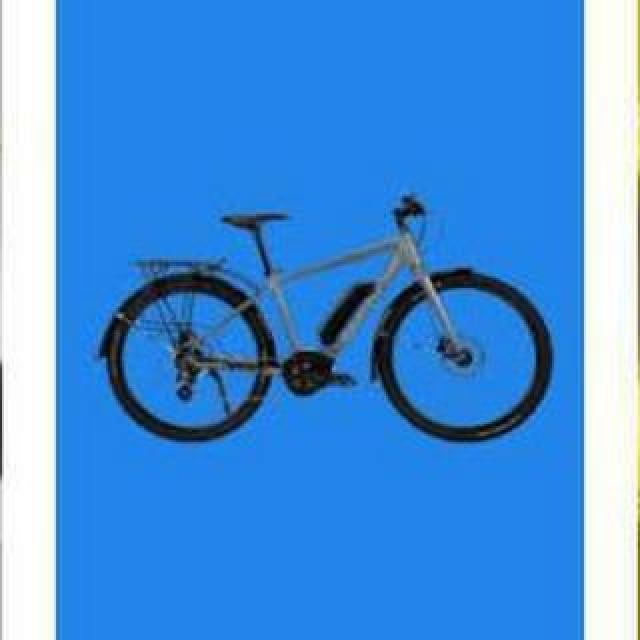Person: (100, 184, 556, 448)
